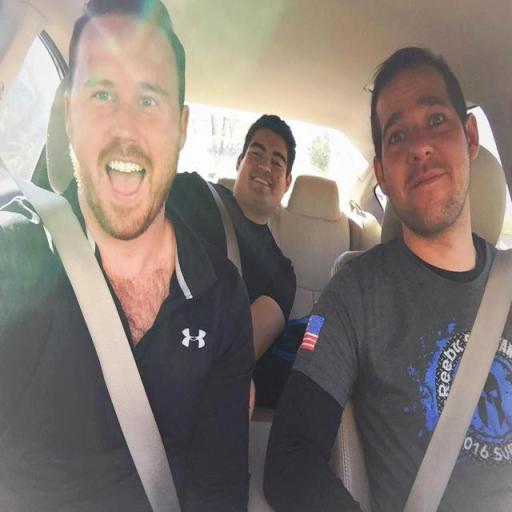Under Armour: (178, 324, 208, 350)
